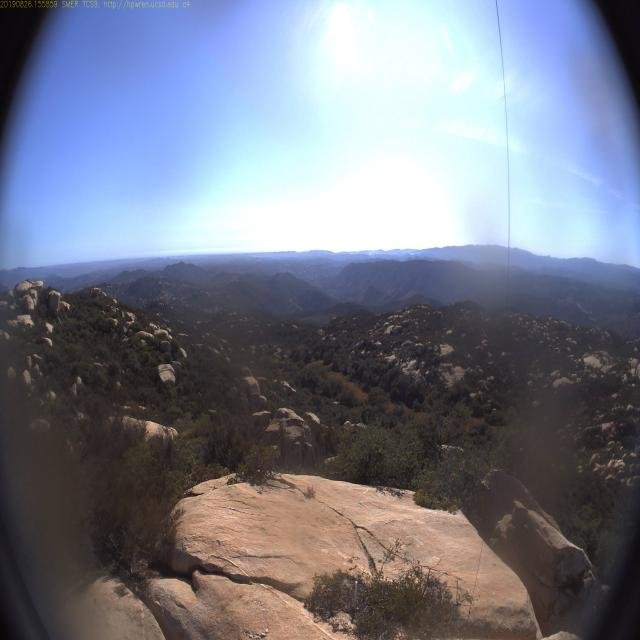smoke: (408, 246, 418, 258), (365, 248, 374, 259)
